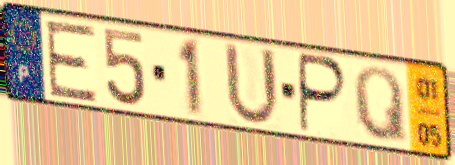1: (176, 34, 208, 122)
5: (100, 26, 149, 109)
E: (43, 19, 100, 105)
P: (297, 50, 351, 137)
Q: (350, 64, 411, 147)
U: (221, 39, 282, 129)
